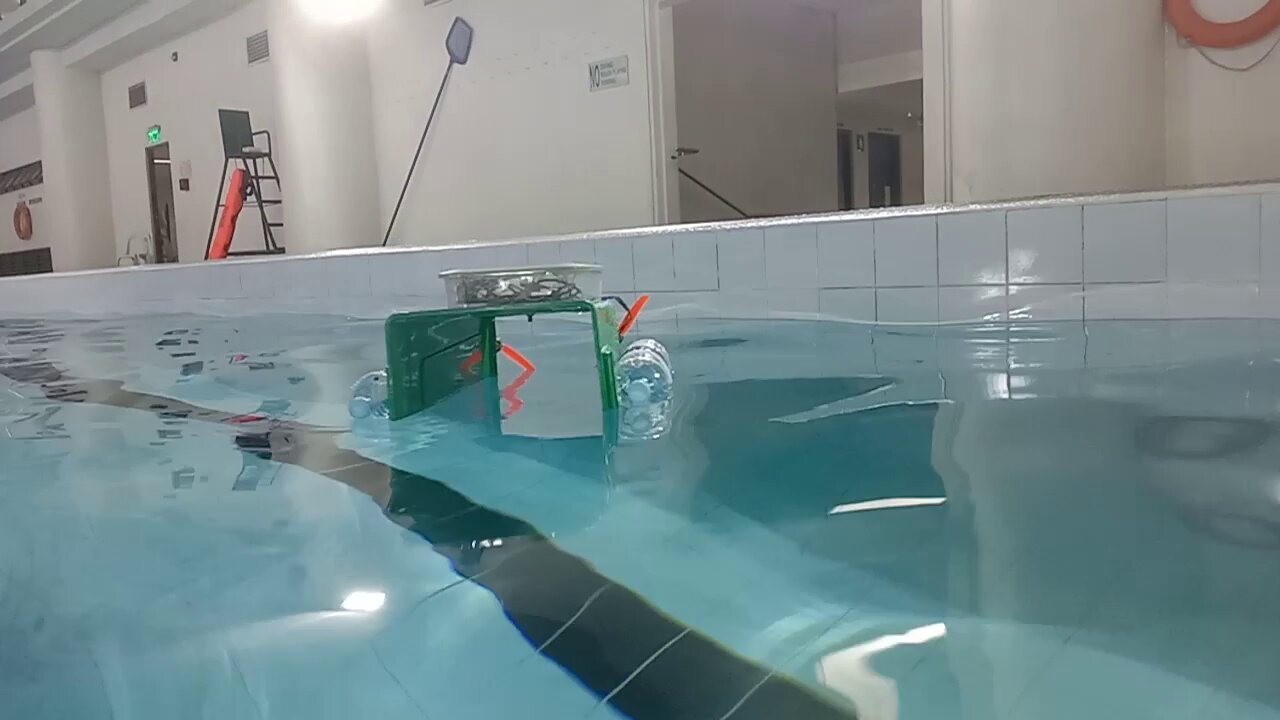drone: (345, 263, 674, 421)
